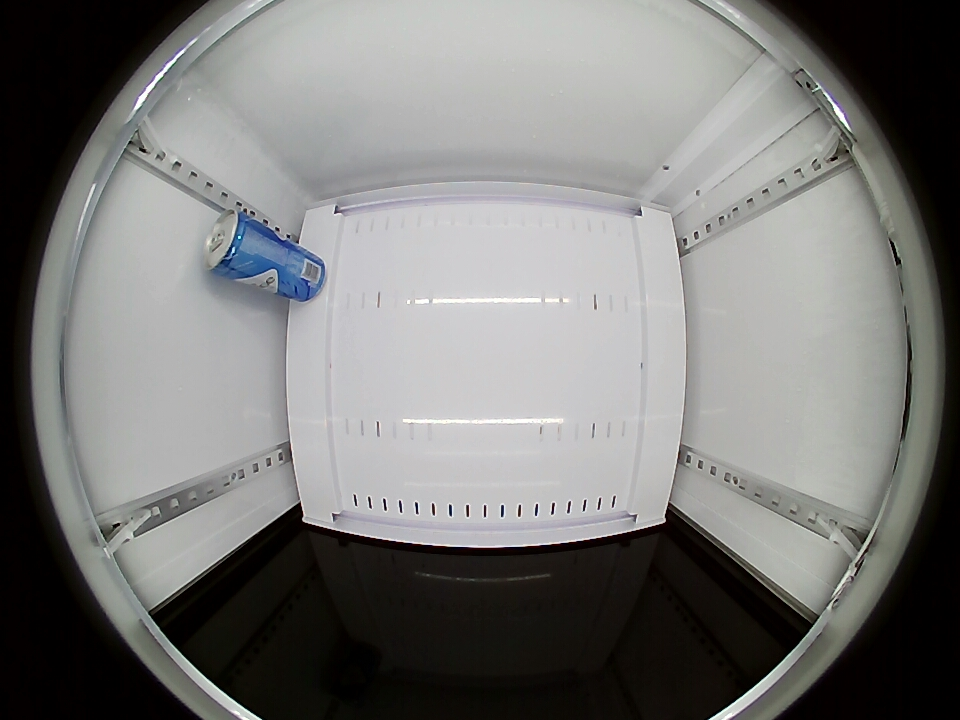qingdaowangzi-2: (203, 208, 261, 280)
